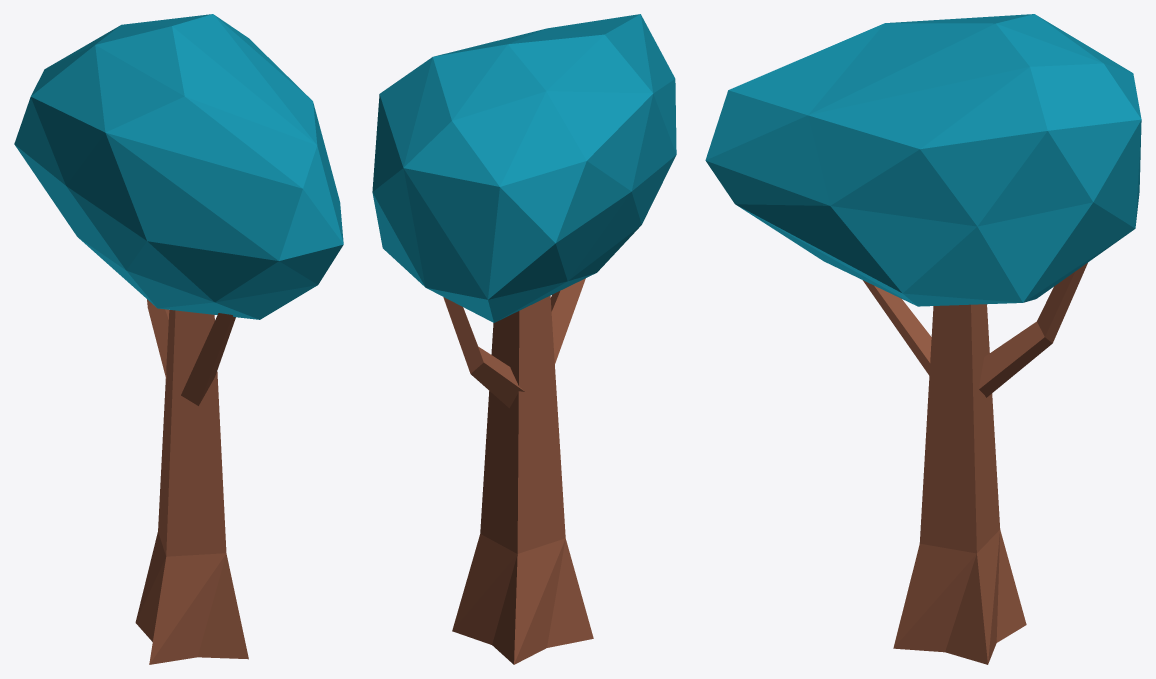
File: Tree_37_summer_blue_pal.fbx
3 views of the same model, side by side, from view 1: azimuth 30°, elevation 25°; view 2: azimuth 150°, elevation 25°; view 3: azimuth 270°, elevation 25° (orthographic).
Visible parts, largest first — view 1: Tree_37_summer_blue_pal; view 2: Tree_37_summer_blue_pal; view 3: Tree_37_summer_blue_pal.
Part boxes in pixels (x1=…): Tree_37_summer_blue_pal: x1=14, y1=14, x2=343, y2=664; Tree_37_summer_blue_pal: x1=372, y1=14, x2=676, y2=664; Tree_37_summer_blue_pal: x1=705, y1=14, x2=1141, y2=664.
Size of the model in its own units: 93.74 by 233 by 151.
